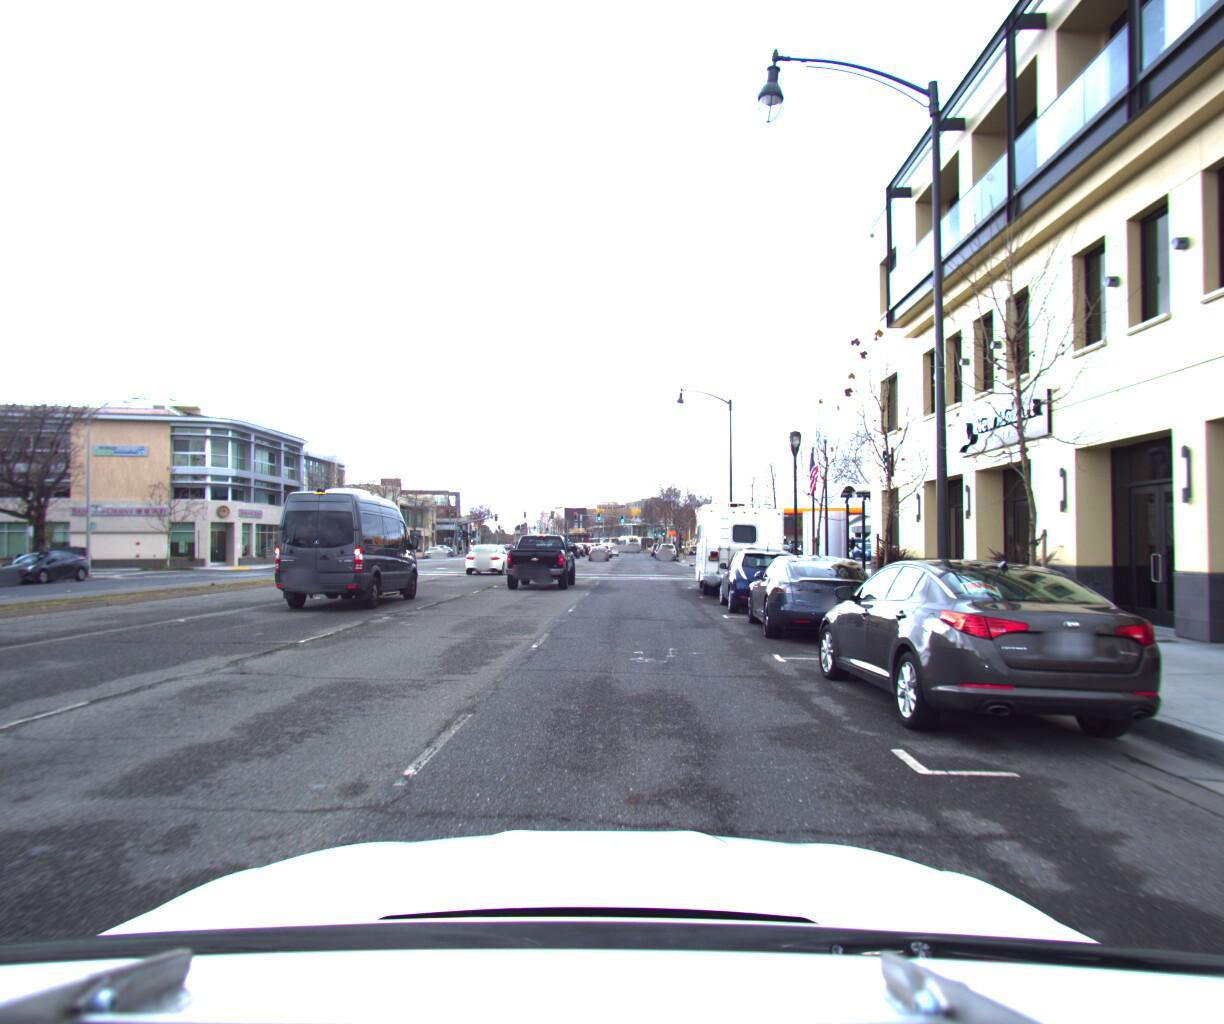car: (795, 544, 1199, 770), (266, 473, 426, 608), (742, 544, 890, 640), (714, 537, 810, 609), (503, 524, 575, 586), (464, 537, 515, 569), (846, 532, 884, 552), (586, 536, 609, 553), (657, 533, 675, 552)
other_vehicle: (688, 490, 790, 595)
